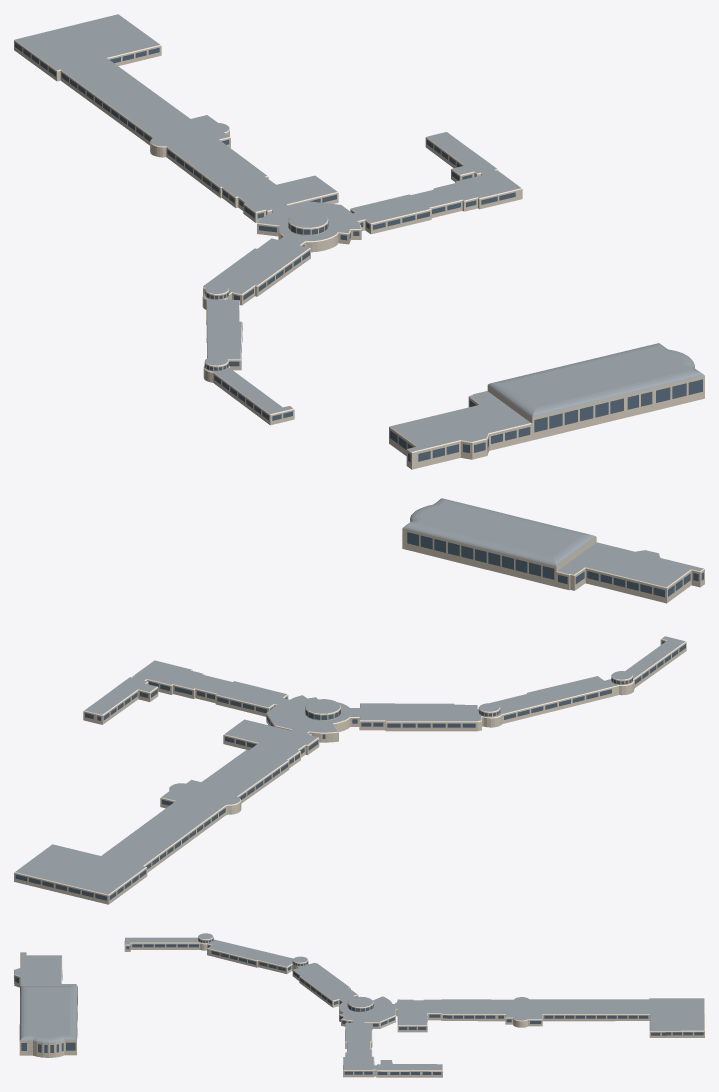
The model's file is clt-concourses-d-e.glb.
3 renders of one model, top to bottom at view 1: azimuth 30°, elevation 25°; view 2: azimuth 150°, elevation 25°; view 3: azimuth 270°, elevation 25°, orthographic. The views are drawn at different scales.
Visible parts, largest first — view 1: Charlotte Douglas International Airport Concourses D and E; view 2: Charlotte Douglas International Airport Concourses D and E; view 3: Charlotte Douglas International Airport Concourses D and E.
Part boxes in pixels (<box>): Charlotte Douglas International Airport Concourses D and E: <box>14,14,704,469</box>; Charlotte Douglas International Airport Concourses D and E: <box>14,498,704,904</box>; Charlotte Douglas International Airport Concourses D and E: <box>14,933,704,1077</box>.
Size of the model in its own units: 268 by 16 by 584.
